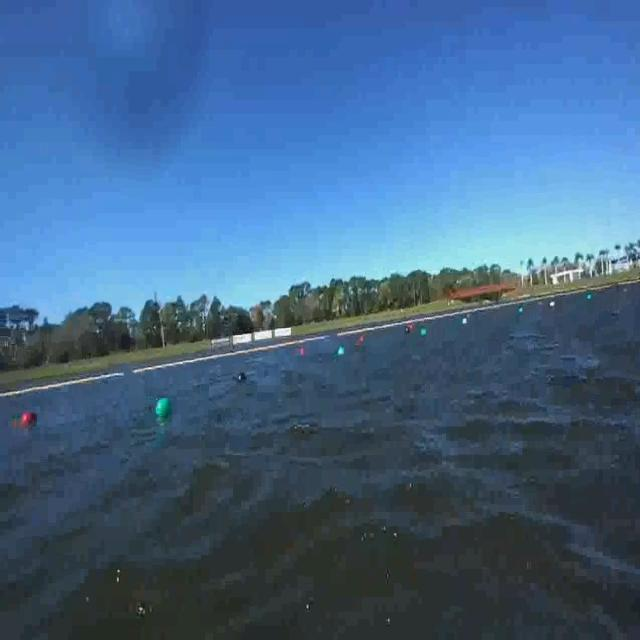black-buoy: (236, 371, 250, 385)
green-buoy: (155, 400, 171, 420)
red-buoy: (24, 412, 38, 426)
